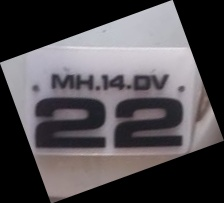character: (34, 95, 106, 150), (113, 96, 184, 148), (51, 72, 74, 89), (152, 73, 170, 91), (75, 73, 94, 90), (109, 72, 126, 90), (133, 73, 150, 91), (100, 73, 109, 90)
